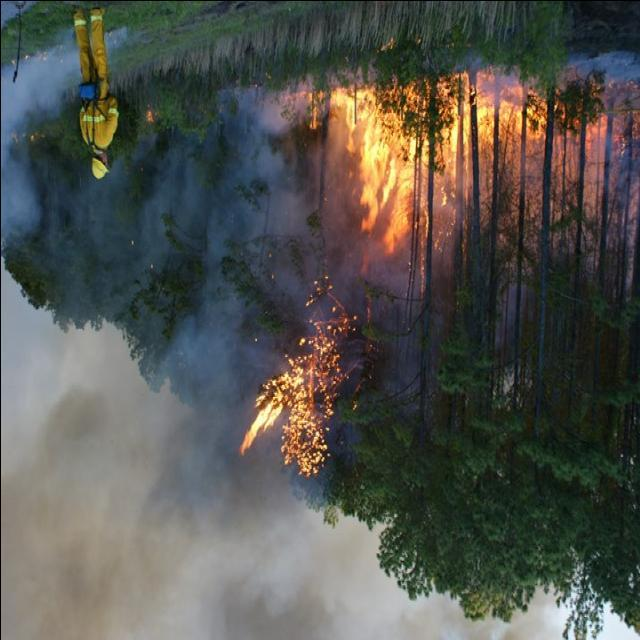Fire: (238, 76, 540, 486)
